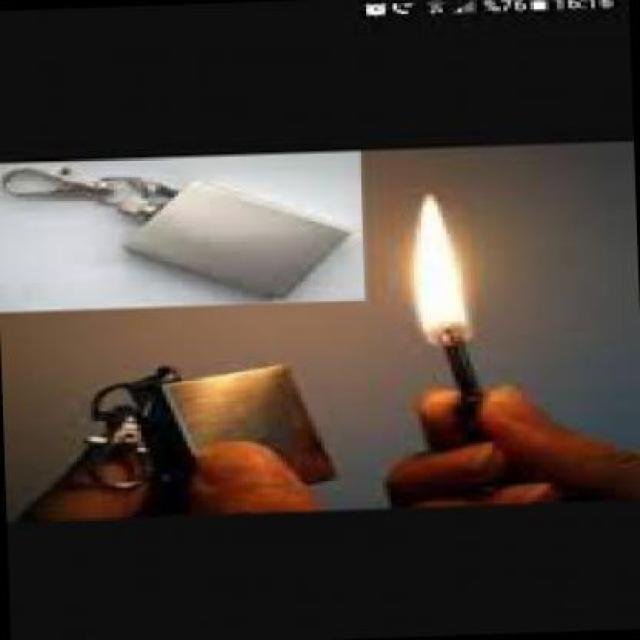Fire: (405, 186, 479, 344)
